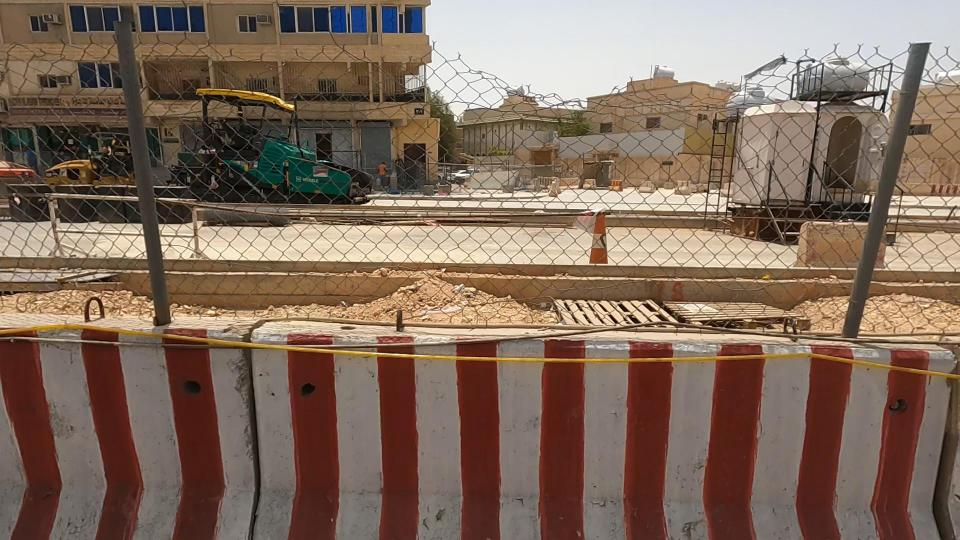CONSTRUCTION_ROAD: (205, 140, 960, 540), (0, 153, 430, 540), (74, 37, 529, 274), (344, 116, 819, 278)
